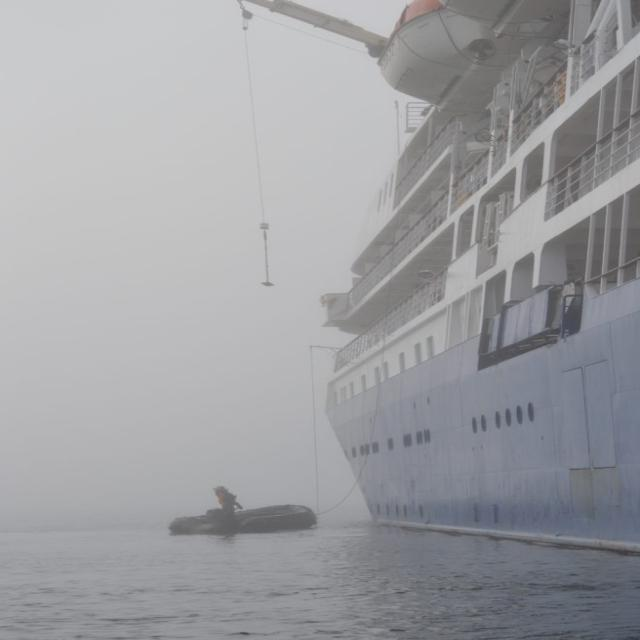passenger ship: (300, 0, 640, 551)
